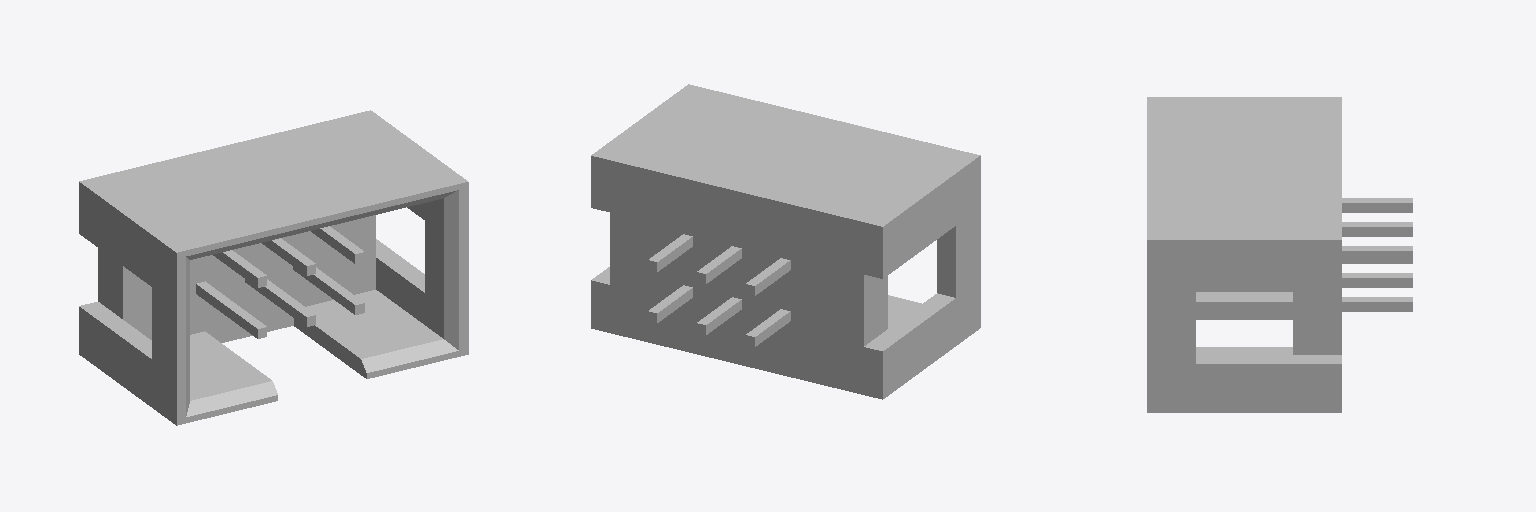
Rendered from IDC2x3.obj.
3 renders of one model, left to right at view 1: azimuth 30°, elevation 25°; view 2: azimuth 150°, elevation 25°; view 3: azimuth 270°, elevation 25°, orthographic.
Visible parts, largest first — view 1: box, pin (4), pin (1), pin, pin (2), pin (3), pin (5); view 2: box, pin (4), pin (5), pin, pin (1), pin (2), pin (3); view 3: box, pin (1), pin, pin (2), pin (3), pin (5).
Part boxes in pixels (x1,y1,x2,y2): box: (79, 110, 468, 425); pin (4): (196, 281, 266, 338); pin (1): (293, 267, 364, 314); pin: (245, 279, 315, 326); pin (2): (311, 226, 364, 263); pin (3): (262, 238, 315, 275); pin (5): (213, 250, 266, 287); box: (591, 84, 980, 399); pin (4): (745, 309, 790, 346); pin (5): (745, 258, 790, 295); pin: (697, 297, 741, 334); pin (1): (648, 285, 692, 322); pin (2): (648, 234, 692, 271); pin (3): (697, 246, 741, 283); box: (1147, 97, 1341, 412); pin (1): (1196, 297, 1412, 311); pin: (1342, 273, 1412, 287); pin (2): (1342, 246, 1412, 260); pin (3): (1342, 222, 1412, 236); pin (5): (1342, 198, 1412, 212).
Size of the model in its own units: 15.2 by 8.7 by 12.